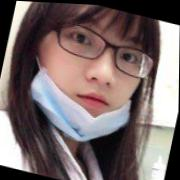WRONG: (22, 2, 153, 144)
